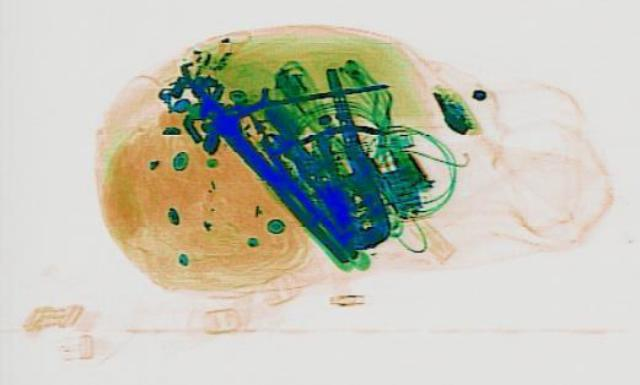Pliers: (242, 66, 418, 253)
